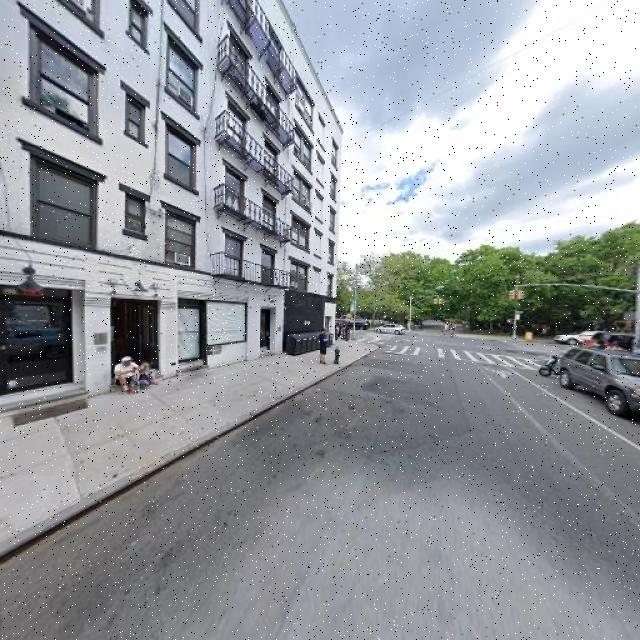Building: (1, 1, 285, 432), (288, 34, 337, 354)
